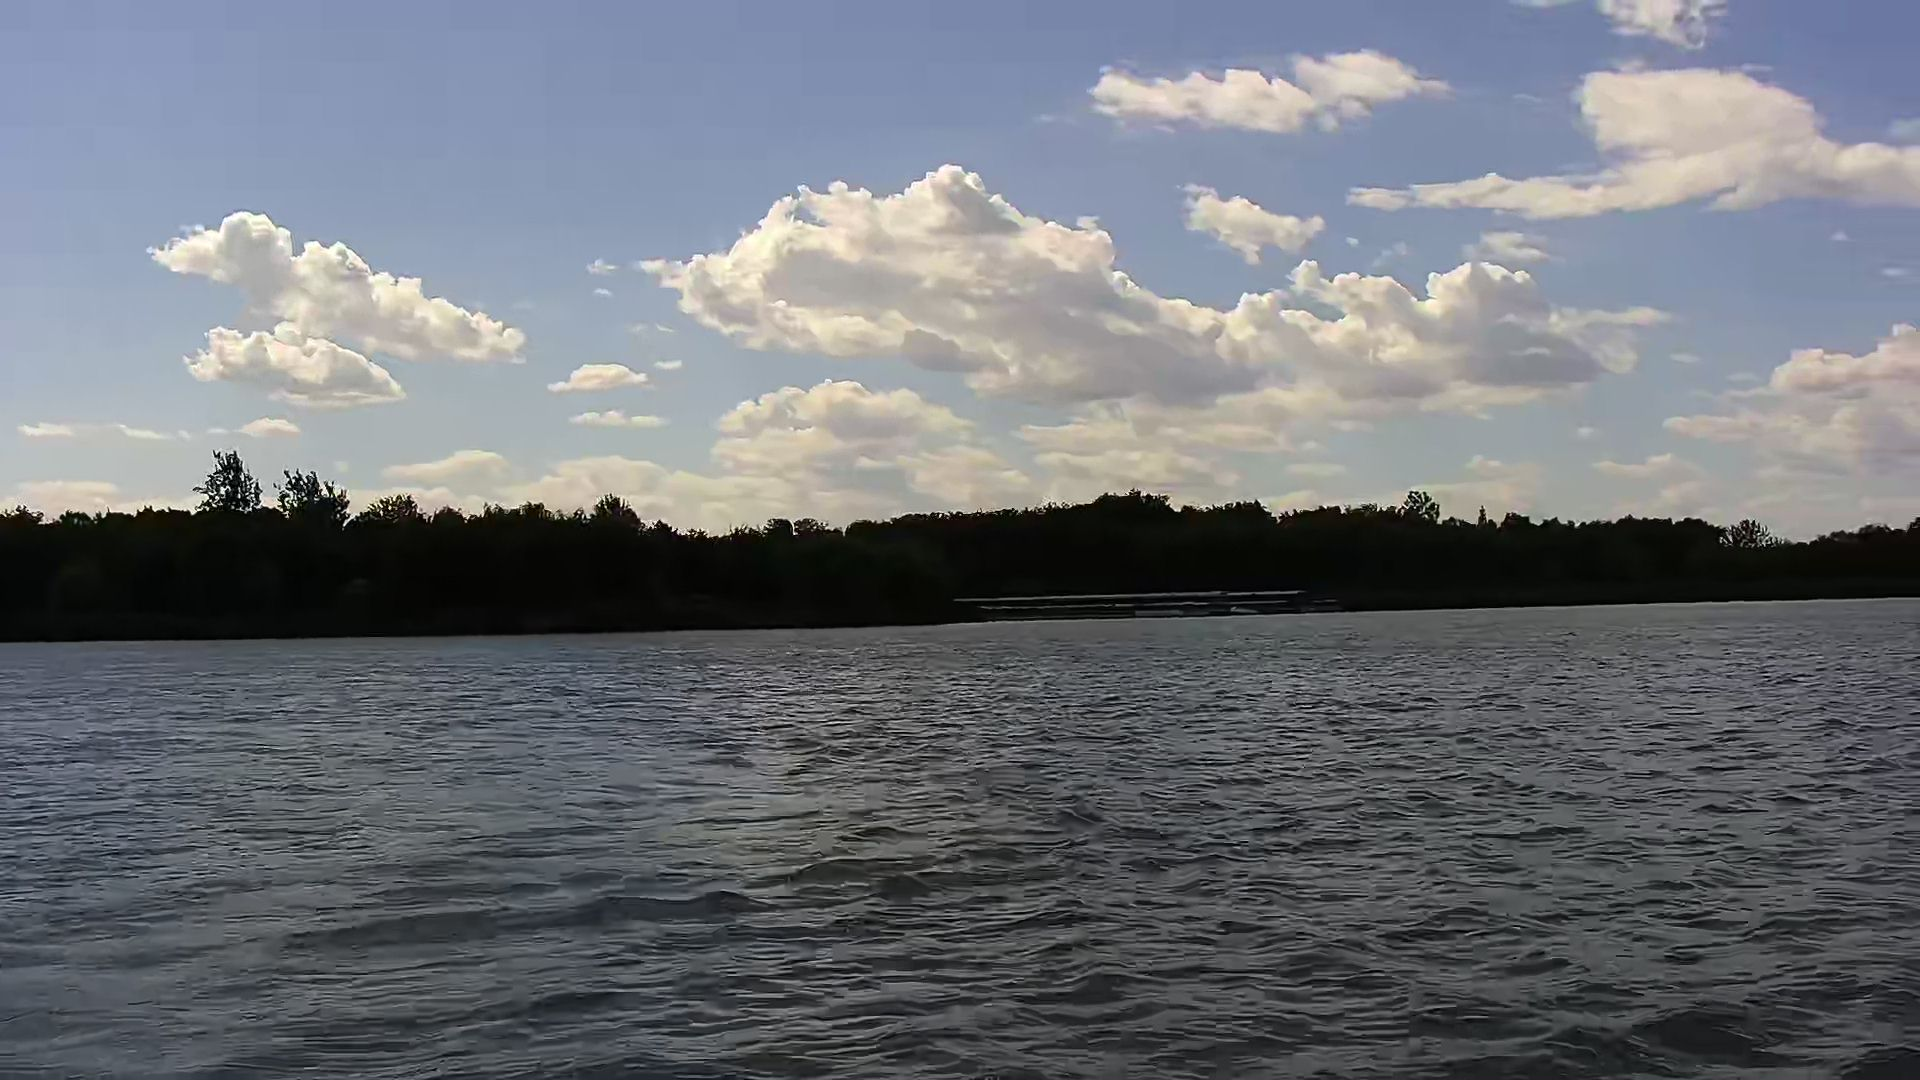bridge: (961, 593, 1299, 618)
